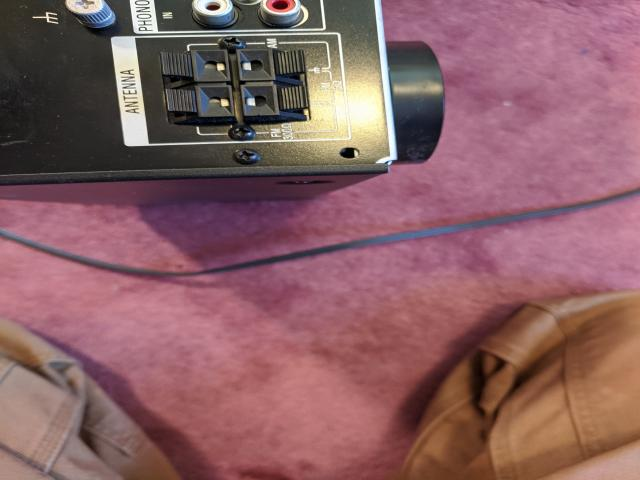CRS: (232, 147, 260, 164), (217, 35, 247, 50), (227, 124, 254, 140)
